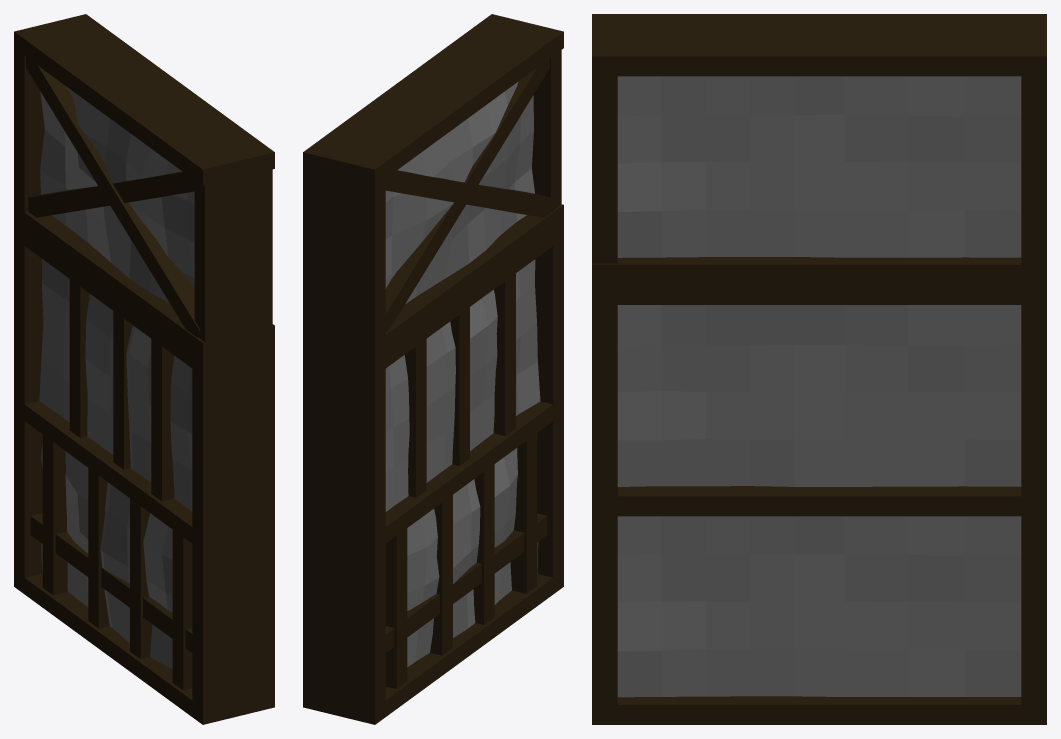
Rendered from wall_exterior_c.fbx.
3 views of the same model, side by side, from view 1: azimuth 30°, elevation 25°; view 2: azimuth 150°, elevation 25°; view 3: azimuth 270°, elevation 25° (orthographic). The views are drawn at different scales.
Visible parts, largest first — view 1: Wall_Exterior_C.001; view 2: Wall_Exterior_C.001; view 3: Wall_Exterior_C.001.
Boxes of the visible parts, x1=… form: Wall_Exterior_C.001: x1=14, y1=14, x2=274, y2=724; Wall_Exterior_C.001: x1=303, y1=14, x2=563, y2=724; Wall_Exterior_C.001: x1=592, y1=14, x2=1046, y2=724.
Size of the model in its own units: 106 by 780 by 481.
